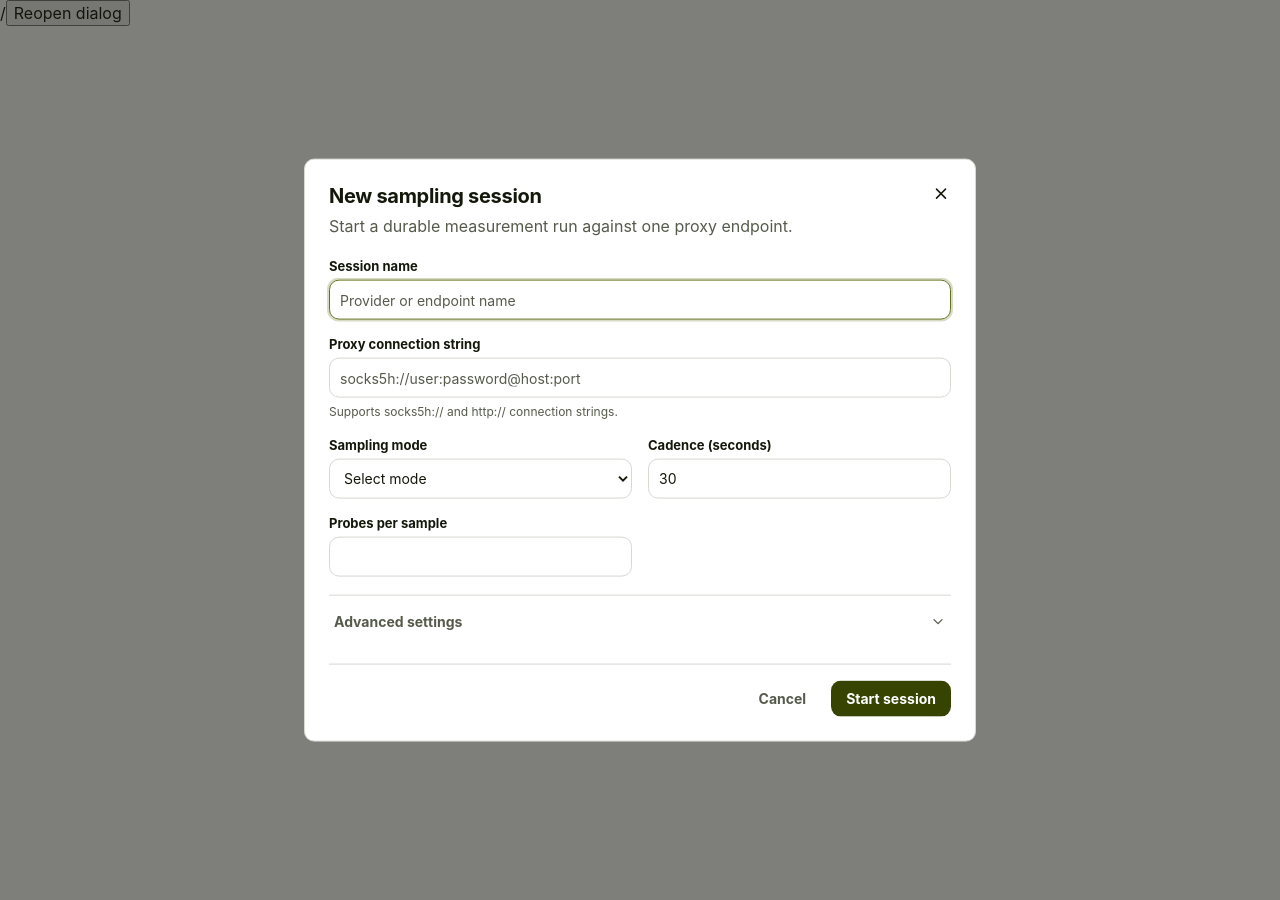
Test: NewSessionDialog › requires name, proxy, mode, and cadence
The image size is (1280, 900).
Clear the number field labelled "Cadence (seconds)": (800, 478) [648, 458, 951, 498]
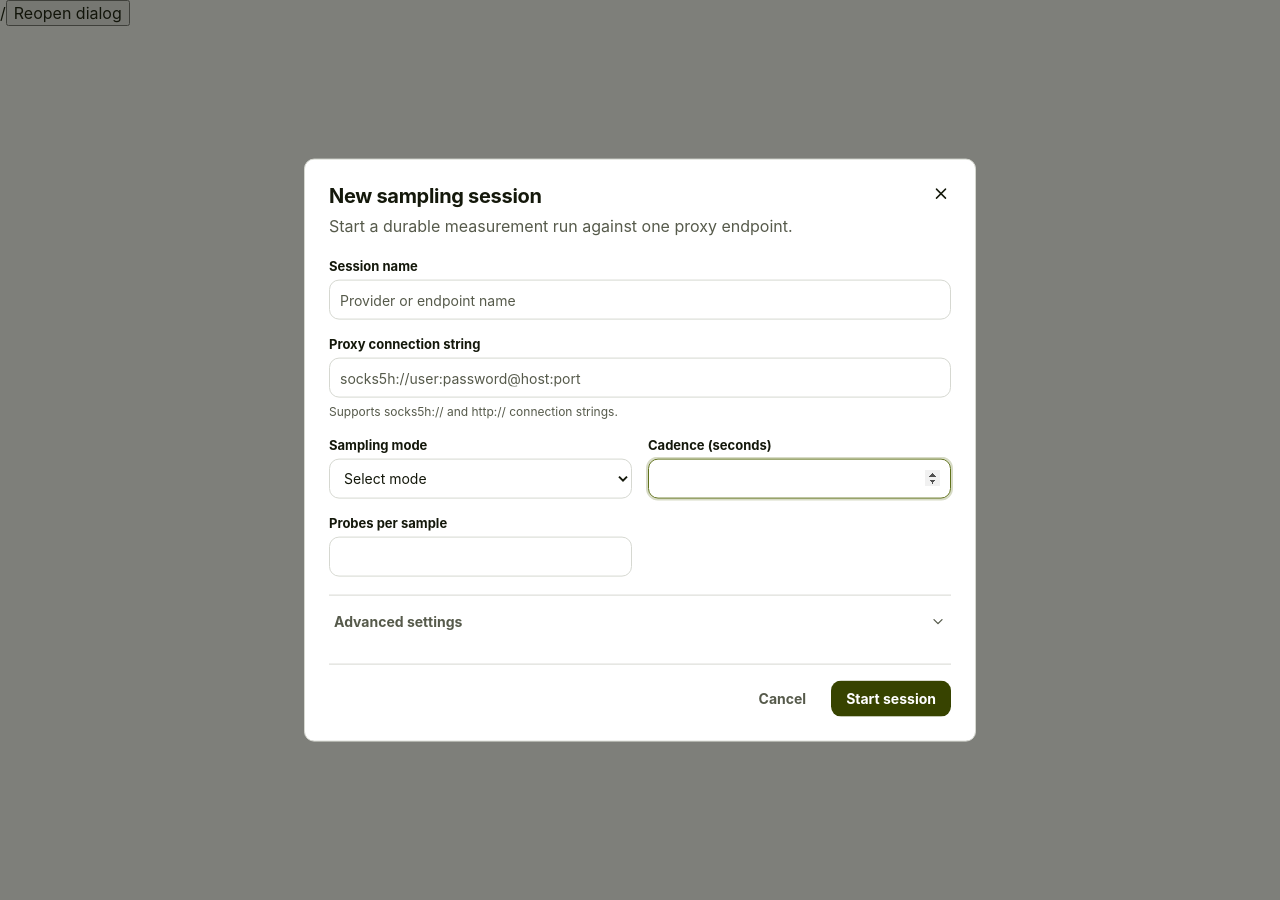
Click the button "Start session": (891, 698) [831, 680, 951, 716]
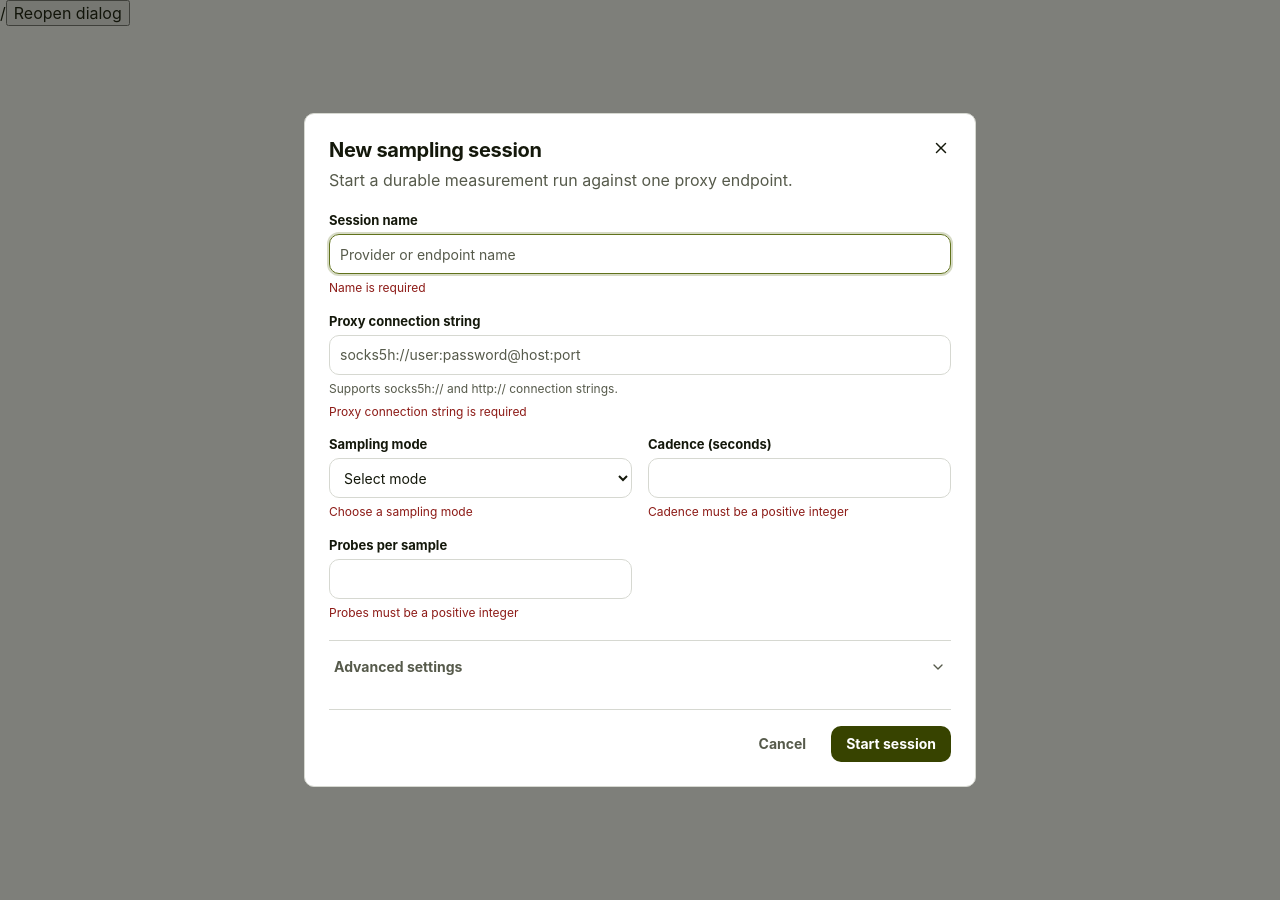
Check: the text "Name is required" is shown, box [329, 280, 426, 295]
Check: the text "Proxy connection string is required" is shown, box [329, 404, 527, 419]
Check: the text "Choose a sampling mode" is shown, box [329, 504, 473, 519]
